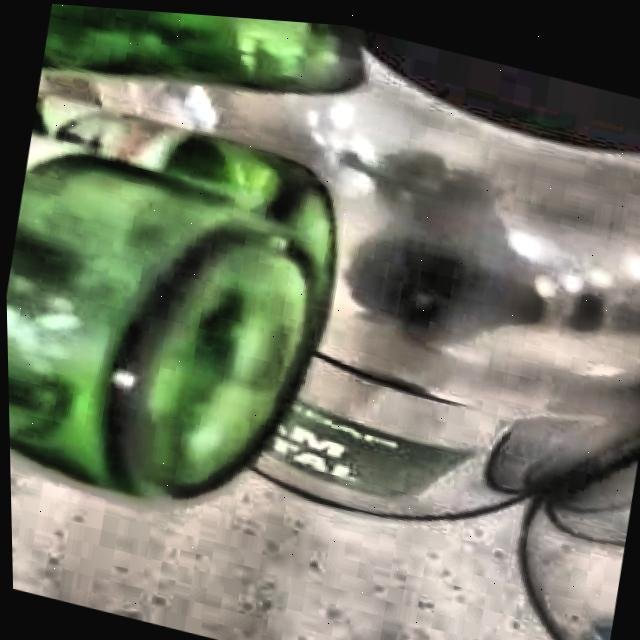glass: (5, 89, 336, 498)
